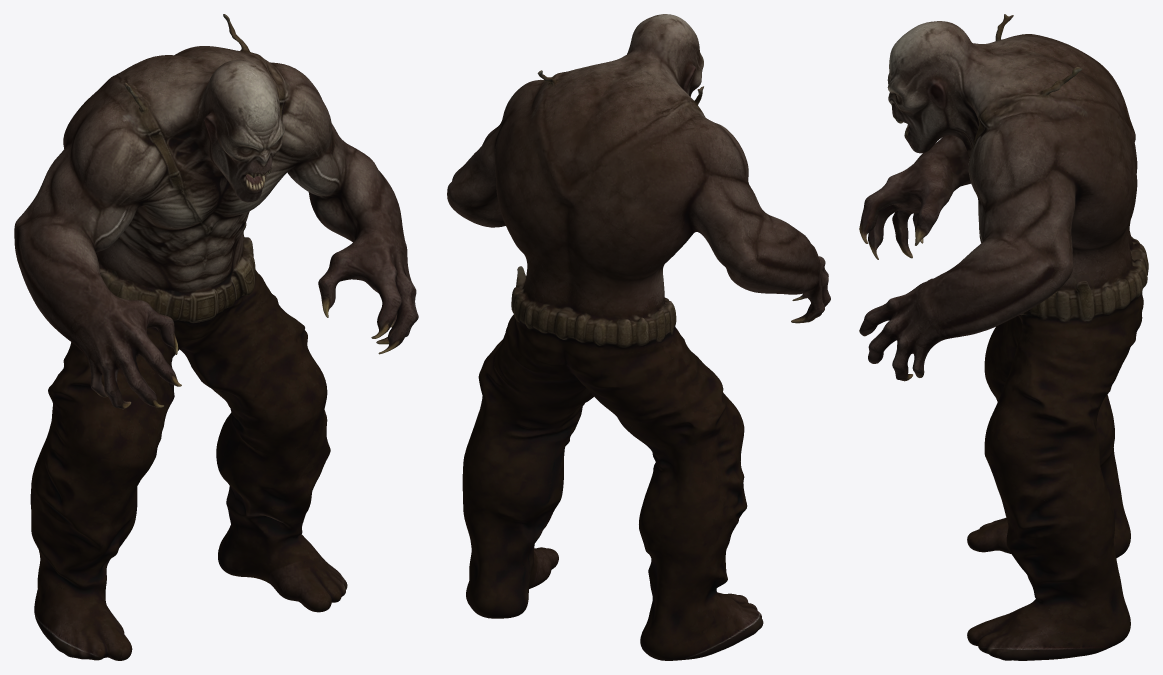
Rendered from pseudogiant.glb.
The picture shows the model from 3 angles, left to right: view 1: azimuth 30°, elevation 25°; view 2: azimuth 150°, elevation 25°; view 3: azimuth 270°, elevation 25°; orthographic projection. The views are drawn at different scales.
Bounding box in the file's own units: 1.2 × 1.9 × 0.8678.
Materials: 1 (1 with a texture image).
